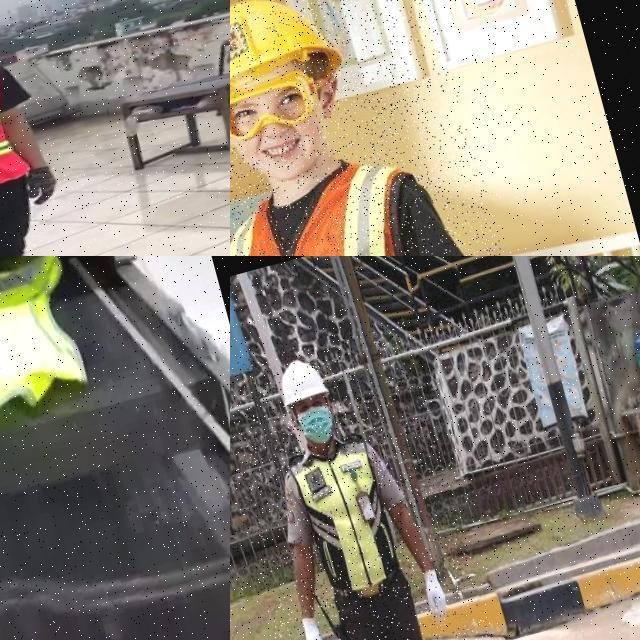helmet: (230, 0, 354, 126), (272, 344, 340, 412)
vest: (230, 153, 504, 256), (288, 428, 416, 602), (0, 256, 98, 464)
